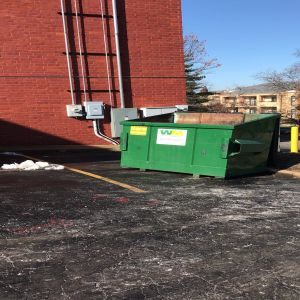Dumpster: (118, 110, 286, 184)
